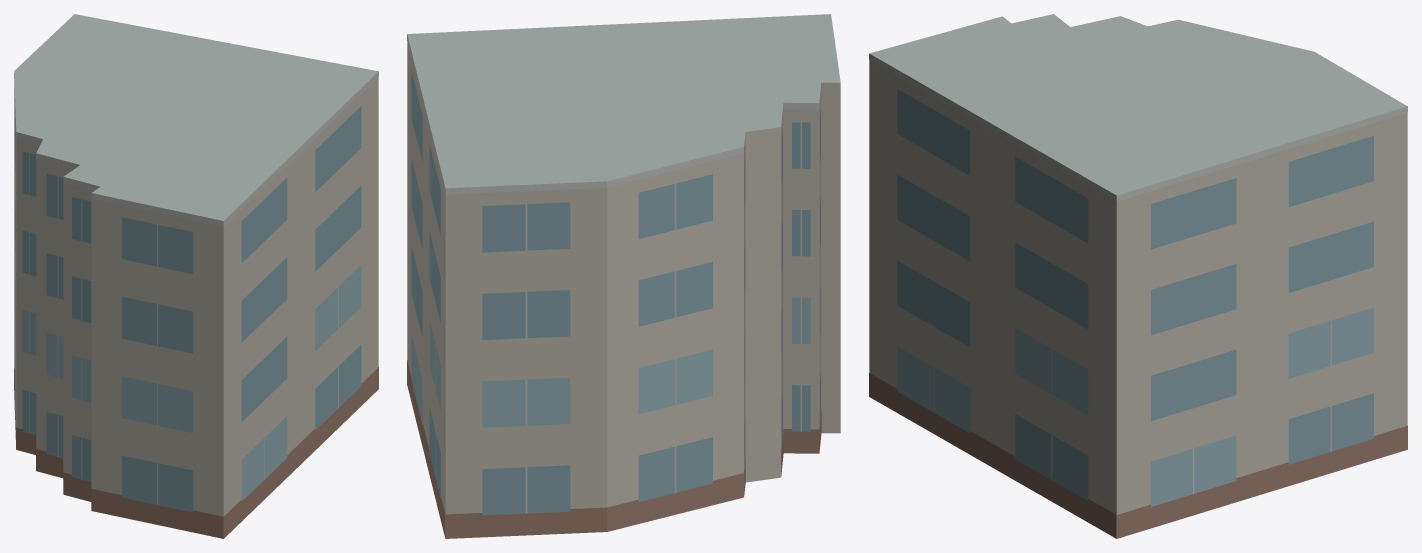
The model's file is survey-upis-32738108.glb.
3 views of the same model, side by side, from view 1: azimuth 30°, elevation 25°; view 2: azimuth 150°, elevation 25°; view 3: azimuth 270°, elevation 25° (orthographic). The views are drawn at different scales.
Visible parts, largest first — view 1: survey-upis-32738108.tmp; view 2: survey-upis-32738108.tmp; view 3: survey-upis-32738108.tmp.
Boxes of the visible parts, bbox=[...] form: survey-upis-32738108.tmp: bbox=[14, 14, 378, 538]; survey-upis-32738108.tmp: bbox=[407, 14, 840, 538]; survey-upis-32738108.tmp: bbox=[869, 14, 1407, 538].
Size of the model in its own units: 15.38 by 13.55 by 19.27.
